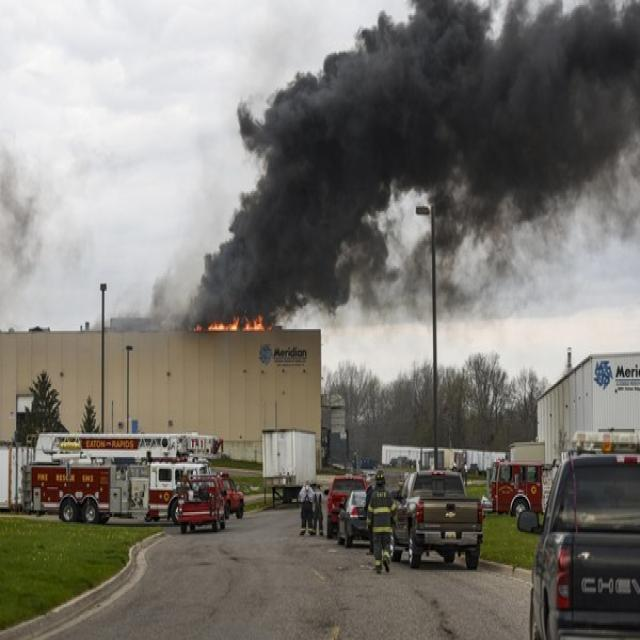Fire: (205, 314, 249, 336), (246, 317, 268, 332)
Smoke: (193, 35, 439, 289), (349, 0, 639, 185)
